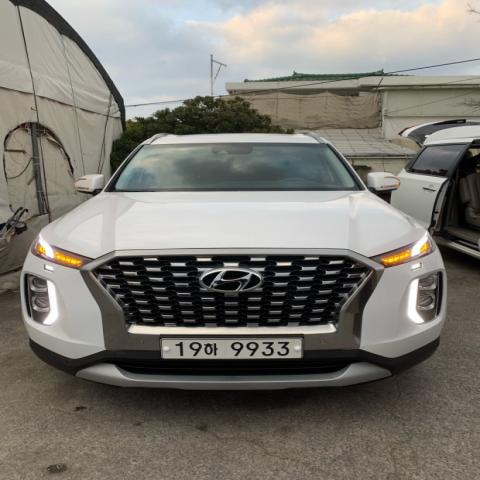LP: (157, 333, 305, 364)
